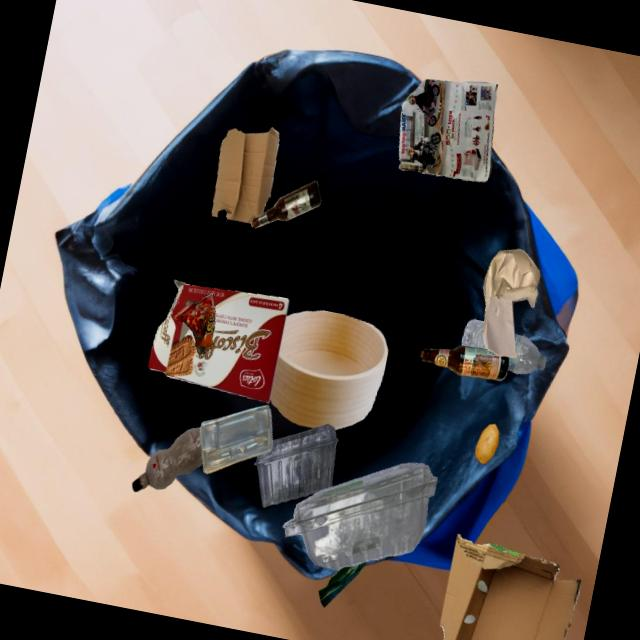biowaste: (319, 562, 366, 608), (475, 424, 499, 464)
cardboard: (148, 280, 289, 403), (440, 534, 581, 640), (212, 127, 279, 223)
combustible waste: (270, 311, 388, 430)
glass: (251, 181, 321, 228), (421, 346, 509, 381)
paper: (398, 79, 498, 182), (483, 249, 540, 358)
plastic: (282, 463, 438, 570), (254, 424, 339, 508), (200, 405, 273, 474), (132, 428, 203, 492), (507, 333, 546, 374), (462, 319, 487, 349)
trash: (173, 293, 215, 354)
